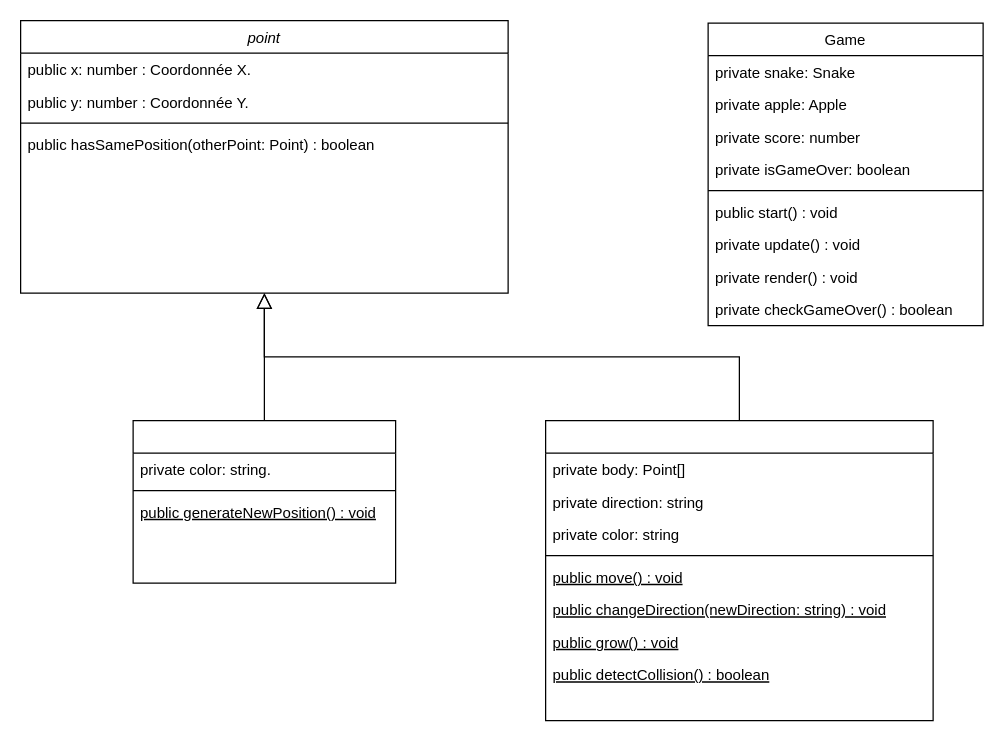
Some shapes in this 1004 by 741 pixel diagram are drawn without their labels. Each missing label, with the box of its shape:
Apple: (132, 419, 396, 583)
Snake: (544, 419, 933, 721)
